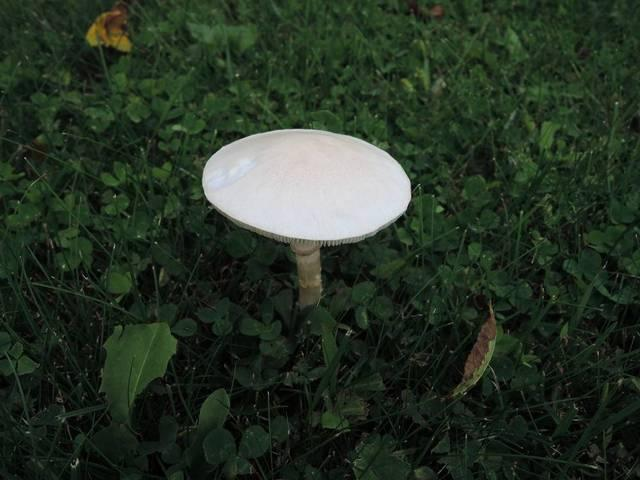poisonous_mushroom: (200, 126, 412, 309)
